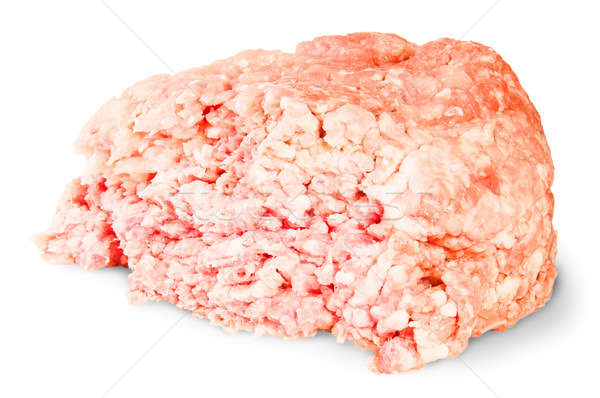ground_beef: (31, 25, 559, 367)
